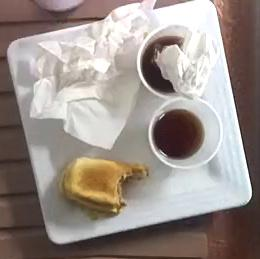hot_dog: (61, 156, 146, 211)
